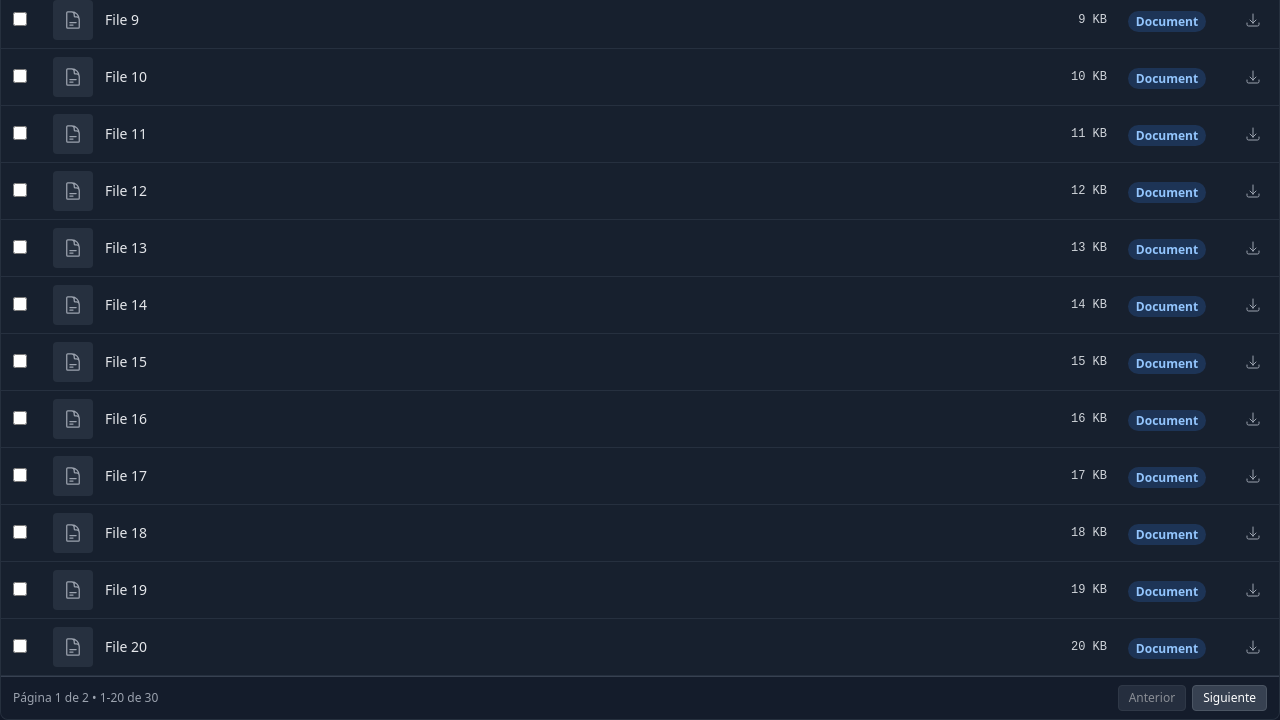
Test: FileList › Pagination › should navigate to previous page
The image size is (1280, 720).
(page scrolled)
Click the button "Siguiente": x=1230, y=698 x1=1192 y1=685 x2=1267 y2=711
(page scrolled)
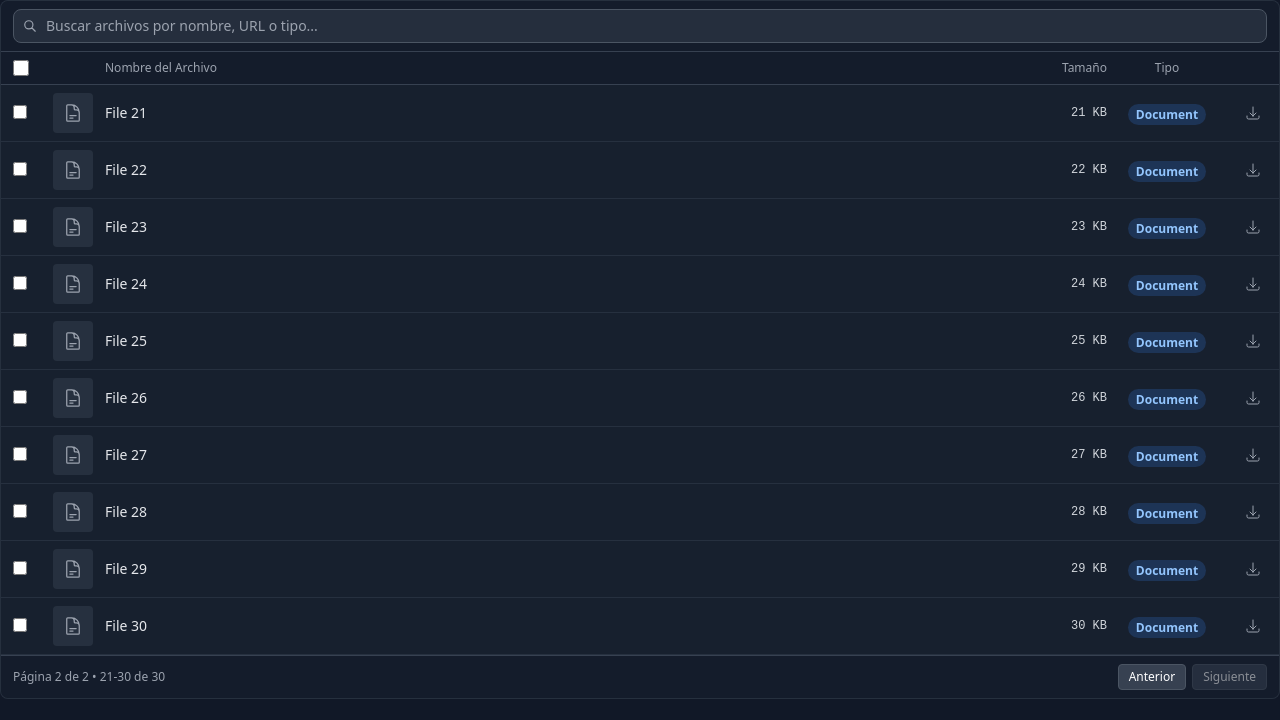
Click the button "Anterior": x=1152, y=677 x1=1118 y1=664 x2=1186 y2=690
(page scrolled)
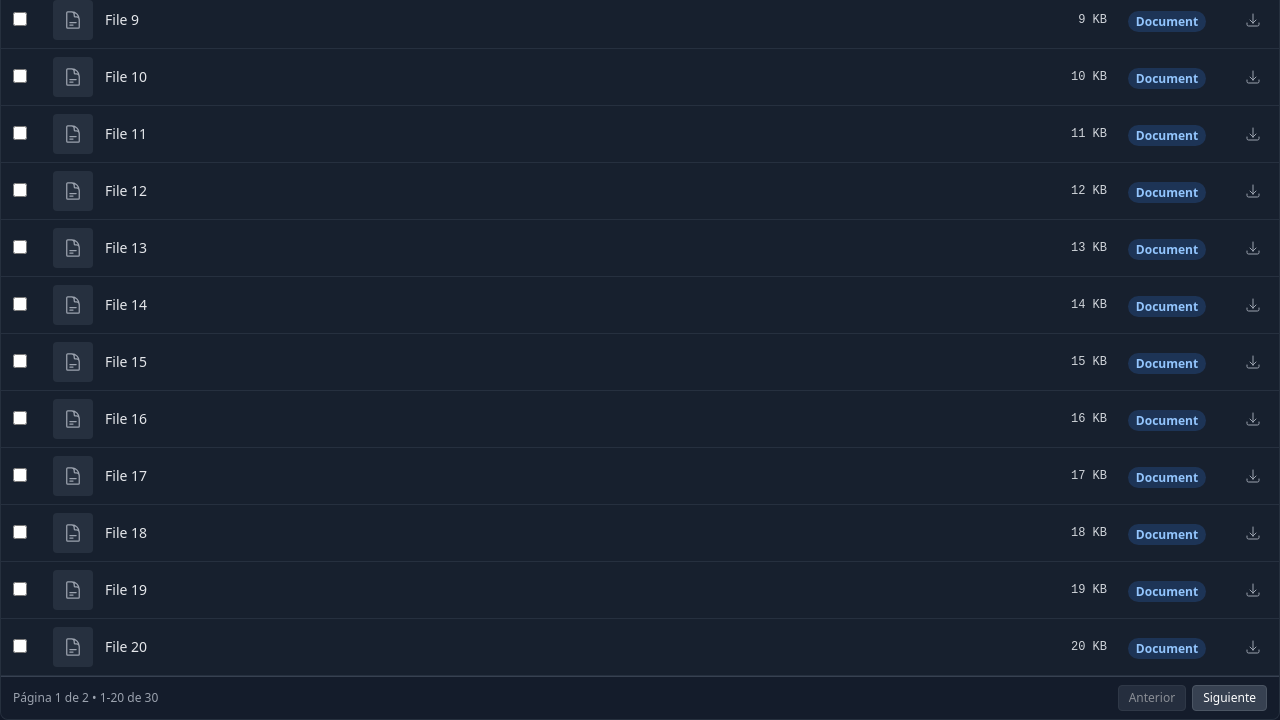
Expected: the text "Página 1 de 2 • 1-20 de 30" is shown, x1=13 y1=690 x2=158 y2=706
